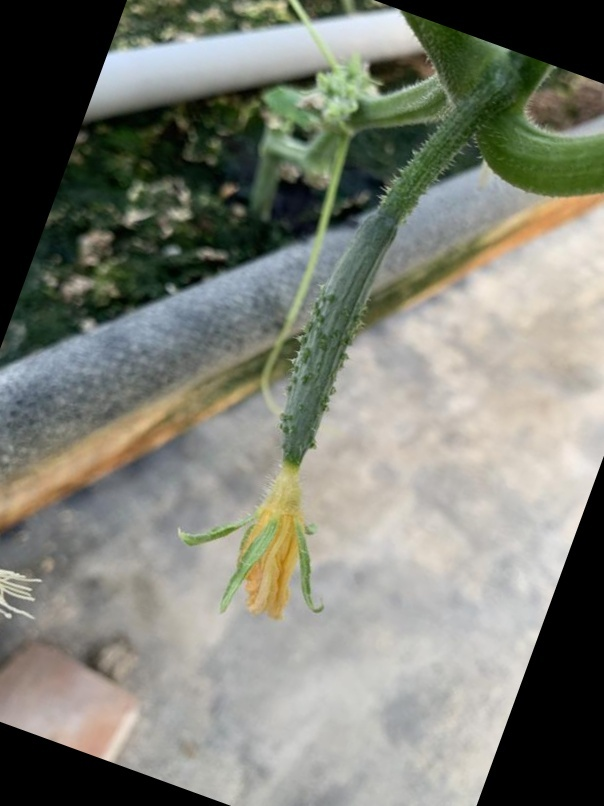bear: (181, 193, 413, 628)
